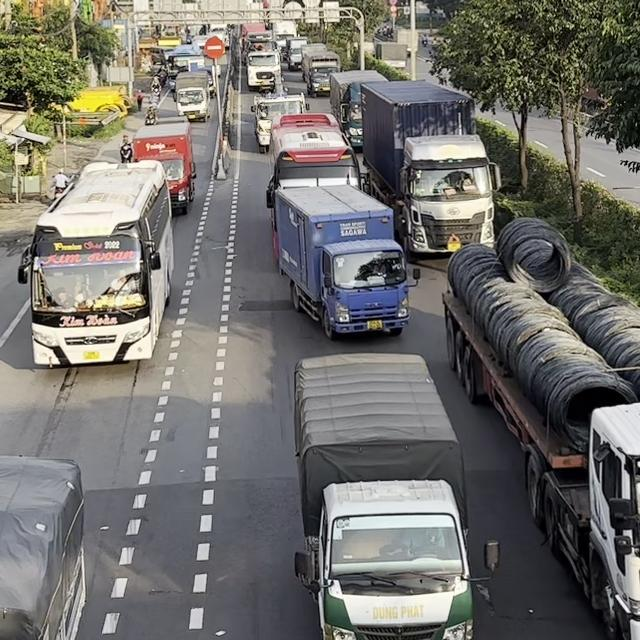bus: (17, 159, 174, 368), (268, 112, 361, 261)
truck: (441, 280, 639, 638), (292, 351, 498, 639), (360, 78, 501, 261), (270, 183, 420, 340), (0, 453, 86, 639), (130, 120, 196, 215), (329, 69, 389, 151), (250, 91, 309, 153), (173, 70, 213, 122), (246, 49, 282, 92)
